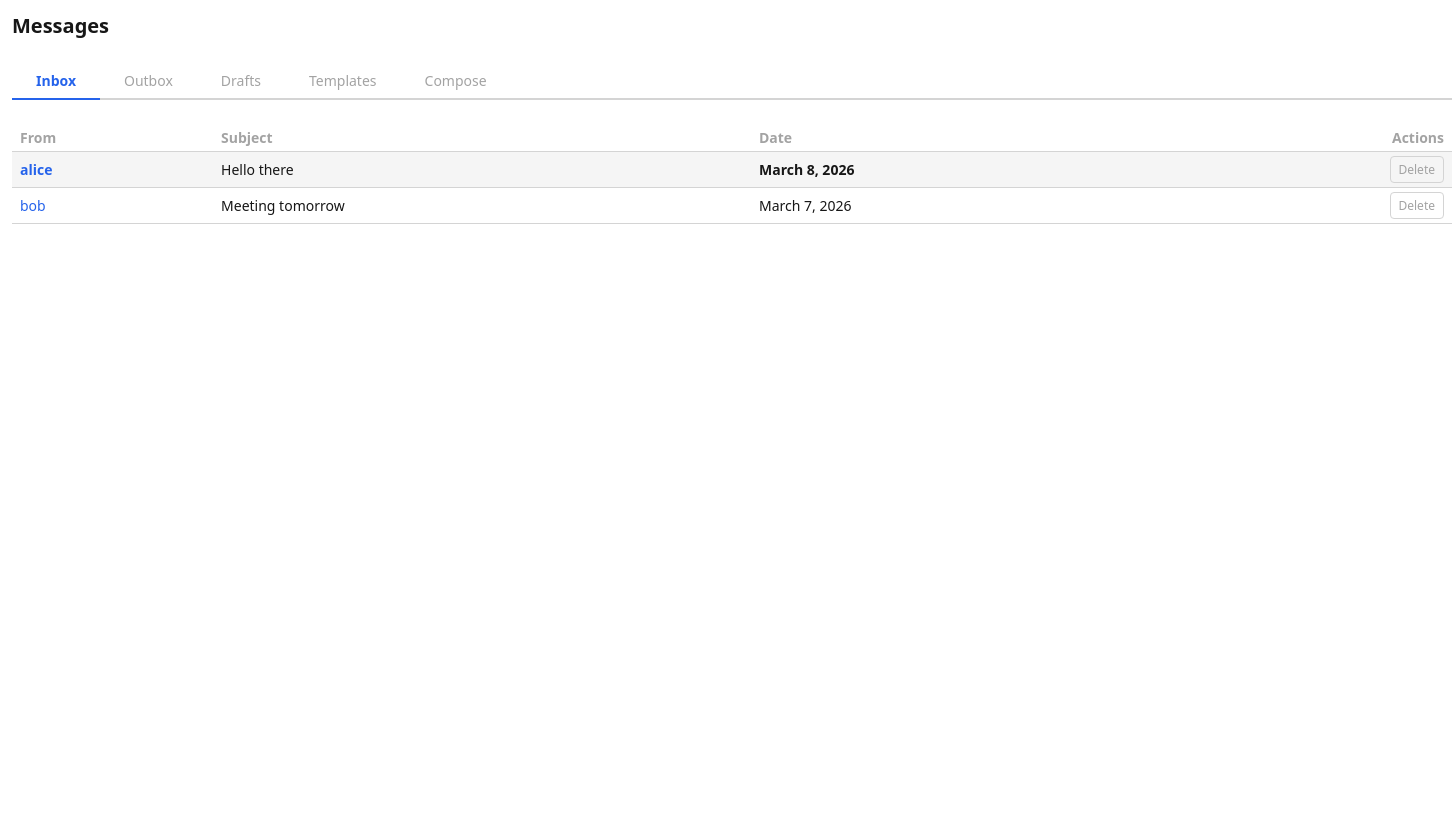
MessagesPage drafts & templates (BE-7.2) › using a template populates the compose form without a recipient
What coordinates should you click on to do the following:
click the button "Templates"
I would click on:
 (343, 82)
Its box is top-left (285, 63), bottom-right (400, 100).
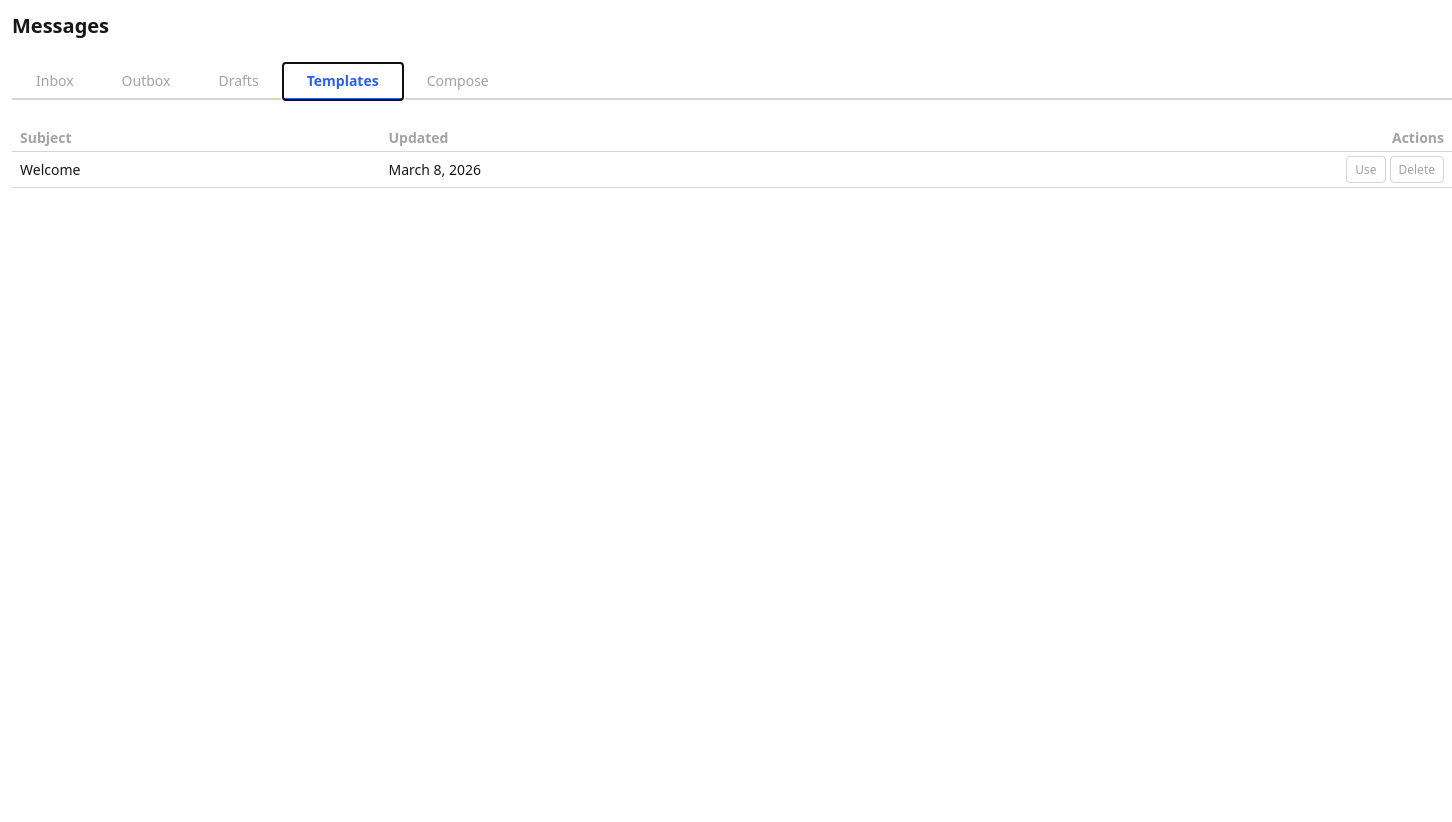
Now the button "Welcome" is shown
What coordinates should you click on to do the following:
click the button "Welcome"
I would click on:
 (50, 170)
Its box is top-left (20, 160), bottom-right (80, 179).
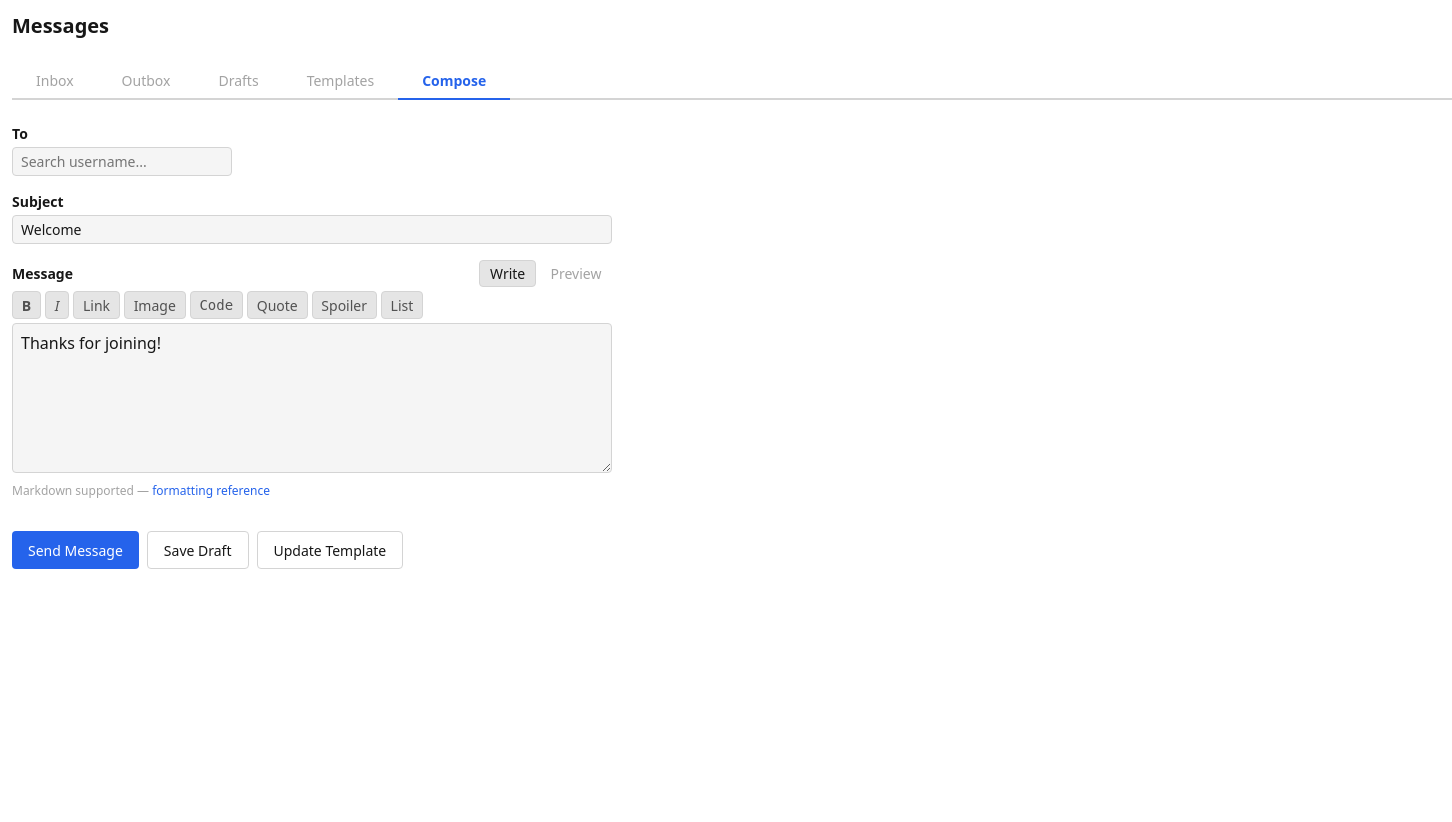
Now the field labelled "Subject" holds "Welcome", box top-left (12, 215), bottom-right (612, 244)
Now the field labelled "To" is empty, box top-left (12, 147), bottom-right (232, 176)
Now the button "Update Template" is shown, box top-left (256, 531), bottom-right (403, 569)
